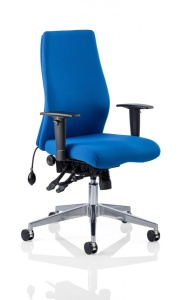chair: (21, 30, 161, 255)
